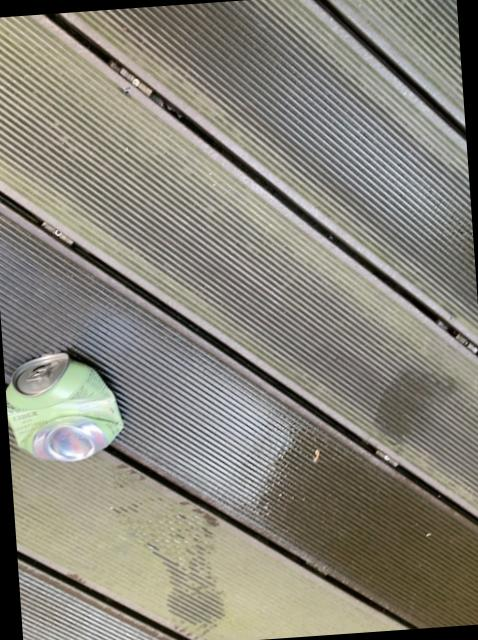metal: (5, 353, 122, 462)
